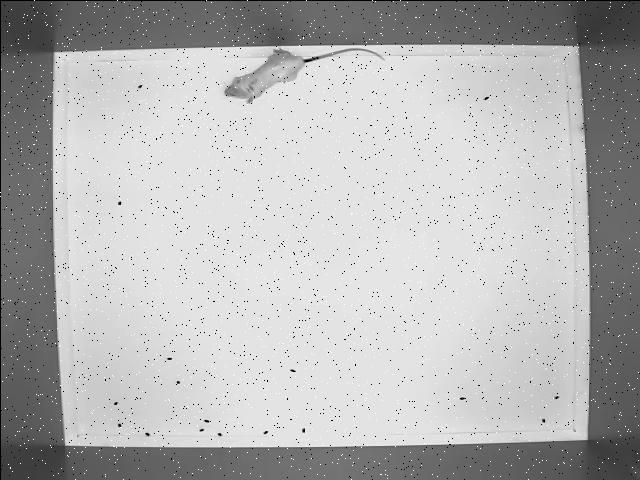Tikus: (218, 40, 386, 107)
